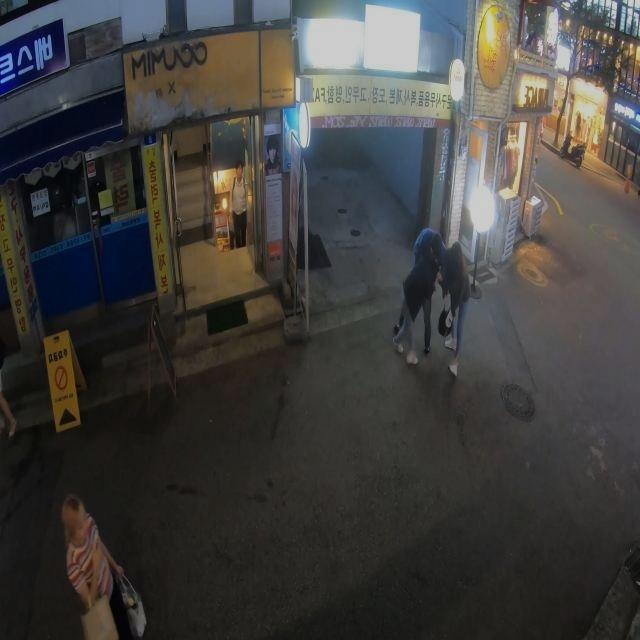fight: (392, 222, 472, 377)
